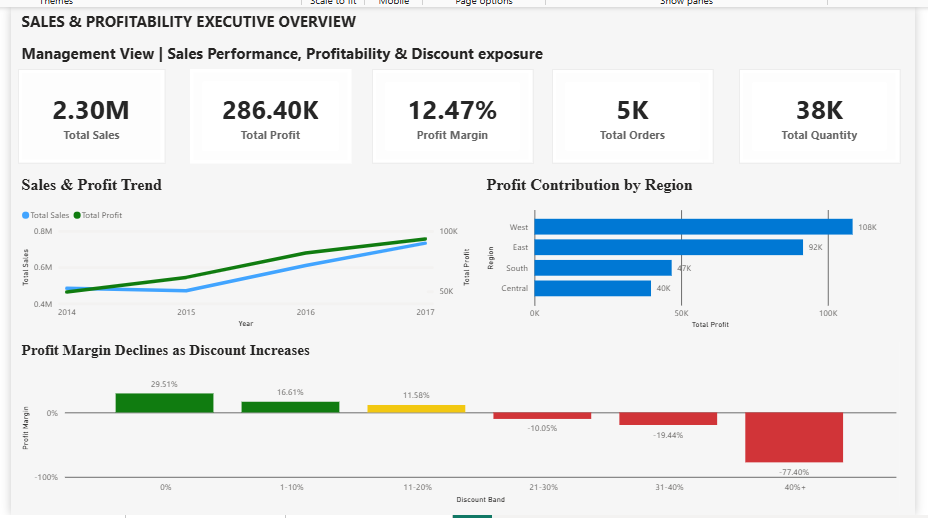

This screenshot's page, from the dashboard's own definition file:
{"tool":"powerbi","page":{"name":"Executive Overview","canvas":[1280,720],"ordinal":0},"visuals":[{"type":"textbox","box":[10.1,0,802.1,89.3],"z":0},{"type":"cardVisual","fields":{"Data":["Sales_Clean.Total Sales"]},"box":[10,88.6,208.6,134.3],"z":1000},{"type":"cardVisual","fields":{"Data":["Sales_Clean.Total Profit"]},"box":[254.3,88.6,228.6,134.3],"z":2000},{"type":"cardVisual","fields":{"Data":["Sales_Clean.Profit Margin"]},"box":[511.4,88.6,228.6,134.3],"z":3000},{"type":"cardVisual","fields":{"Data":["Sales_Clean.Total Orders"]},"box":[767.1,88.6,228.6,134.3],"z":4000},{"type":"cardVisual","fields":{"Data":["Sales_Clean.Total Quantity"]},"box":[1031.4,88.6,228.6,134.3],"z":5000},{"type":"lineChart","title":"Sales & Profit Trend","fields":{"Category":["Sales_Clean.Order Date.Variation.Date Hierarchy.Year"],"Y":["Sales_Clean.Total Sales"],"Y2":["Sales_Clean.Total Profit"]},"box":[9.9,239.5,646.3,219.7],"z":6000},{"type":"clusteredBarChart","title":"Profit Contribution by Region","fields":{"Category":["Sales_Clean.Region"],"Y":["Sales_Clean.Total Profit"]},"box":[669,239.5,591,221.1],"z":7000},{"type":"clusteredColumnChart","title":"Profit Margin Declines as Discount Increases","fields":{"Category":["Sales_Clean.Discount Band"],"Y":["Sales_Clean.Profit Margin"]},"box":[10,475,1250,233.3],"z":8000}]}

Visuals, with their boxes on the page's 1280x720 design canvas (x1, y1, x2, y2). These are canvas units, not pixel positions in the 928x518 screenshot, which may show the page scaled, cropped or inside an application window:
textbox: pyautogui.locateOnScreen(10, 0, 812, 89)
cardVisual - Sales_Clean.Total Sales: pyautogui.locateOnScreen(10, 89, 219, 223)
cardVisual - Sales_Clean.Total Profit: pyautogui.locateOnScreen(254, 89, 483, 223)
cardVisual - Sales_Clean.Profit Margin: pyautogui.locateOnScreen(511, 89, 740, 223)
cardVisual - Sales_Clean.Total Orders: pyautogui.locateOnScreen(767, 89, 996, 223)
cardVisual - Sales_Clean.Total Quantity: pyautogui.locateOnScreen(1031, 89, 1260, 223)
"Sales & Profit Trend" lineChart: pyautogui.locateOnScreen(10, 240, 656, 459)
"Profit Contribution by Region" clusteredBarChart: pyautogui.locateOnScreen(669, 240, 1260, 461)
"Profit Margin Declines as Discount Increases" clusteredColumnChart: pyautogui.locateOnScreen(10, 475, 1260, 708)
